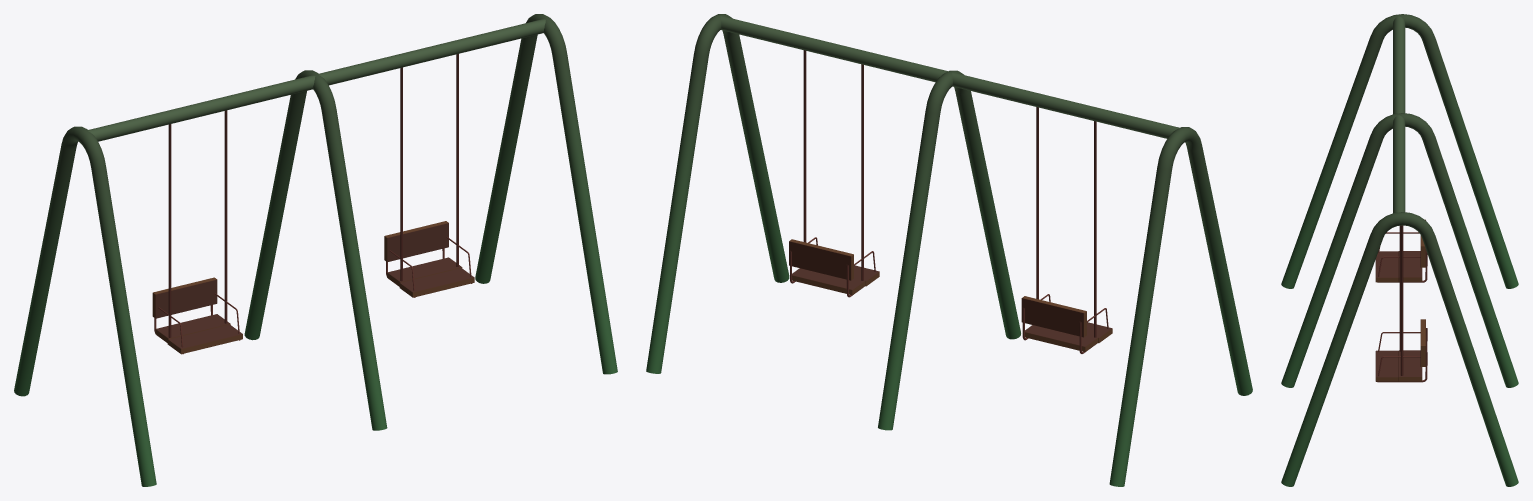
File: Swing.fbx
The picture shows the model from 3 angles, left to right: view 1: azimuth 30°, elevation 25°; view 2: azimuth 150°, elevation 25°; view 3: azimuth 270°, elevation 25°; orthographic projection. The views are drawn at different scales.
Parts seen in each view (by area): view 1: Torus.002; view 2: Torus.002; view 3: Torus.002.
Boxes of the visible parts, x1,y1,x2,y2 form: Torus.002: [14, 14, 617, 486]; Torus.002: [646, 14, 1252, 486]; Torus.002: [1281, 14, 1518, 486].
Bounding box in the file's own units: 1209 × 756 × 597.
